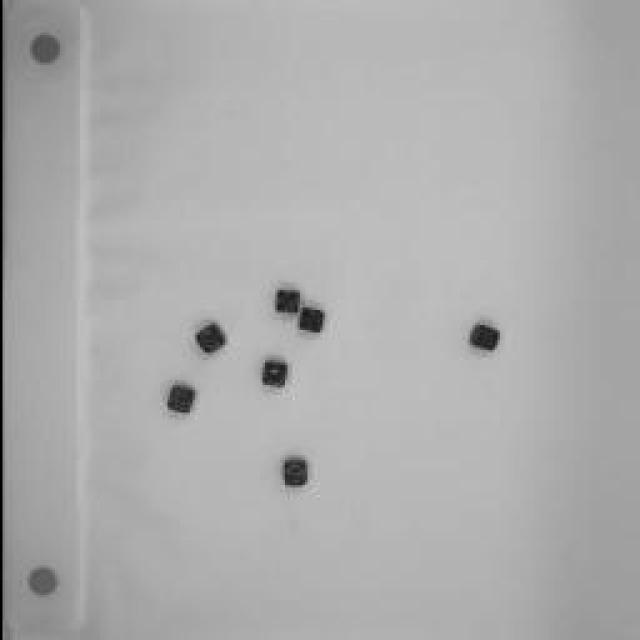dice_1: (256, 358, 292, 390)
dice_2: (190, 319, 230, 359), (292, 304, 328, 338), (268, 285, 300, 320)
dice_4: (276, 455, 312, 493)
dice_6: (460, 320, 500, 355), (162, 380, 196, 418)
